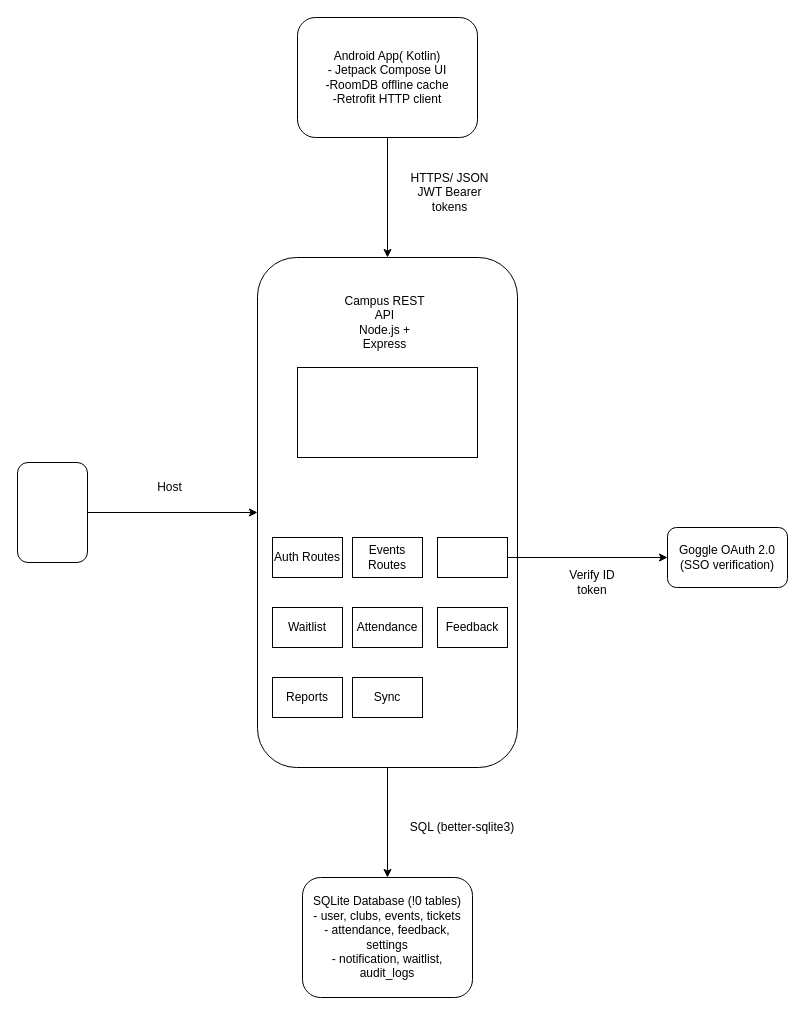
This 805x1015 diagram has some shape labels left out. The centre of each missing label's shape, as x and y in pixels:
Azure App Service Linux Node 22: point 52,512
Middleware - JWT auth - Error handler: point 387,412
Tickets Routes: point 472,557
